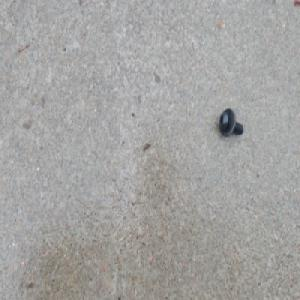BoltWasher: (217, 109, 243, 140)
